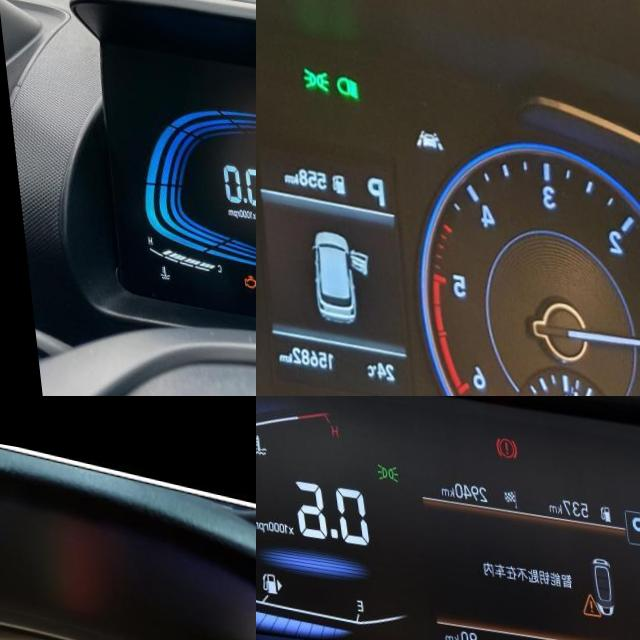Central Warning lamp: (572, 579, 593, 605)
LaneCenteringOff: (411, 116, 441, 139), (510, 629, 538, 640)
Low beam: (332, 64, 357, 91)
SideLamp: (299, 58, 328, 85), (370, 455, 394, 478)
